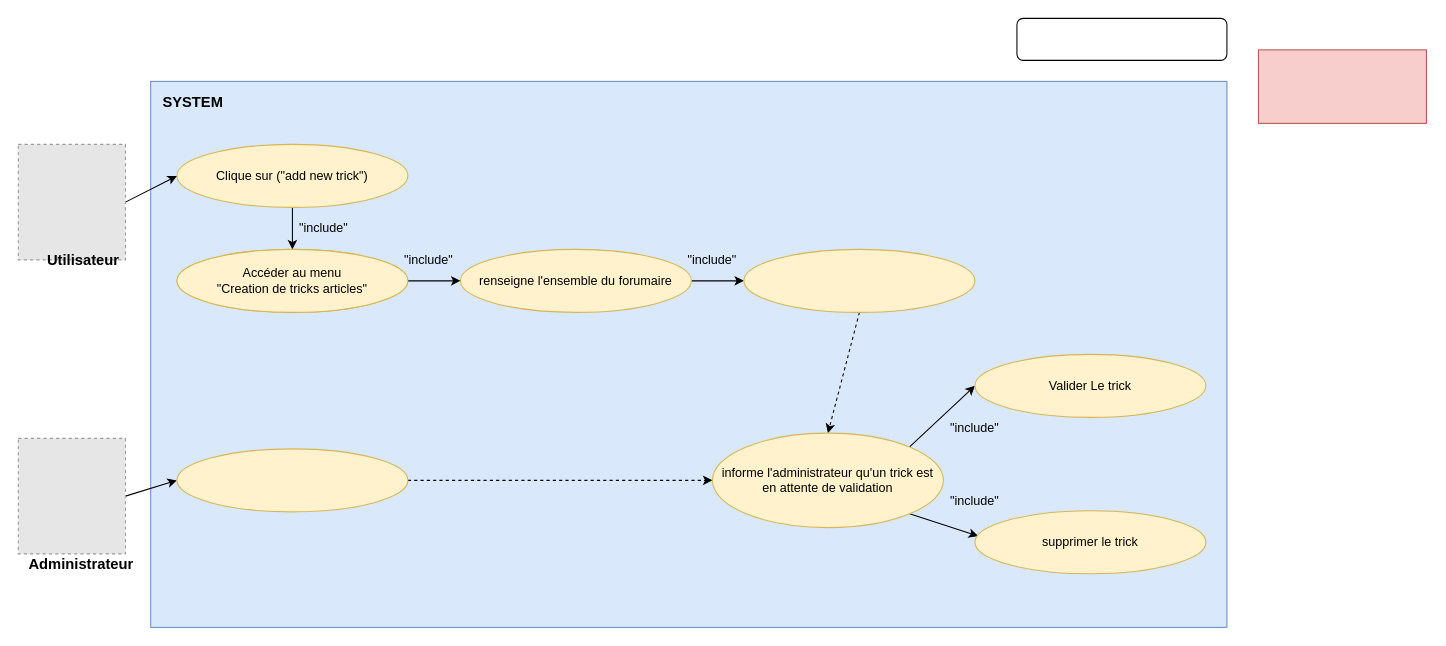
Image size: 1446x646. Some labels were removed from this diagram. Grey dashed boxes stand in for pictures. Each missing label, with the box of its shape:
Accéder au menu "Admin Dashboard": (176, 448, 408, 512)
ajout d’un tricks et validation par administrateur: (1016, 17, 1227, 60)
clique sur "submit": (743, 248, 975, 312)
Important : un trick ne peux pas être visualisé avant sa validation: (1257, 49, 1426, 123)
